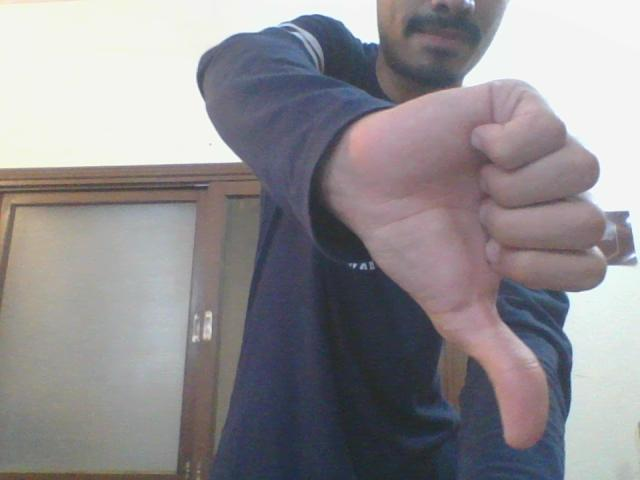thumbs-down: (389, 80, 614, 447)
